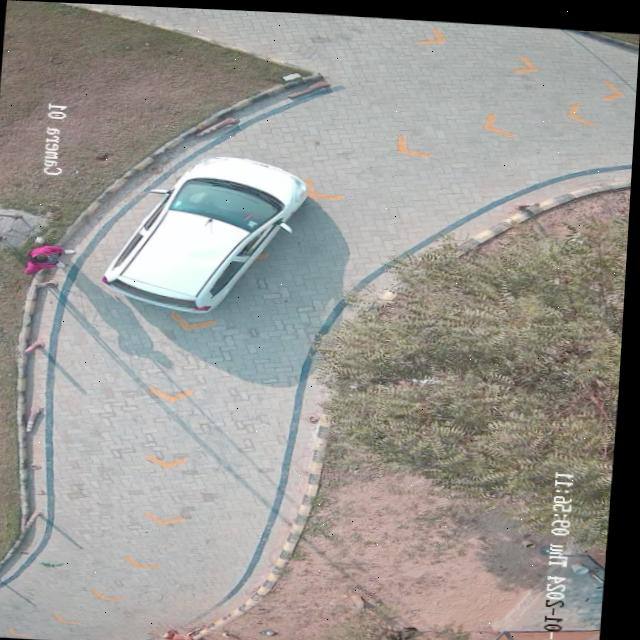car: (107, 154, 308, 310)
